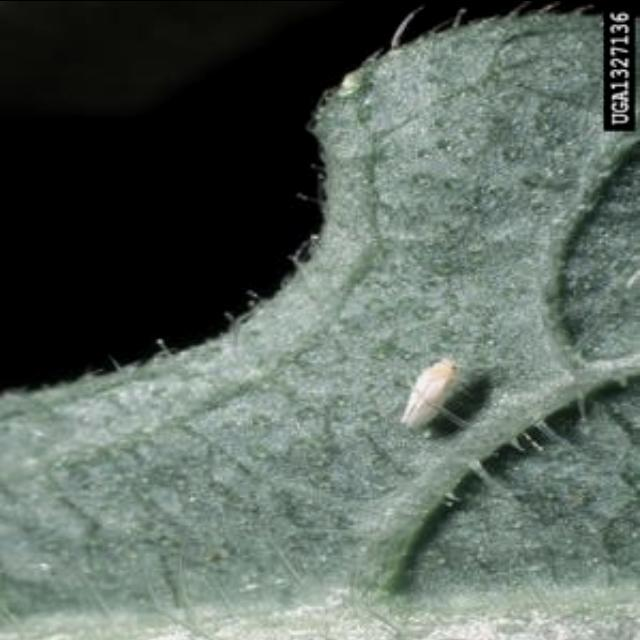Silverleaf whitefly: (350, 322, 504, 488)
